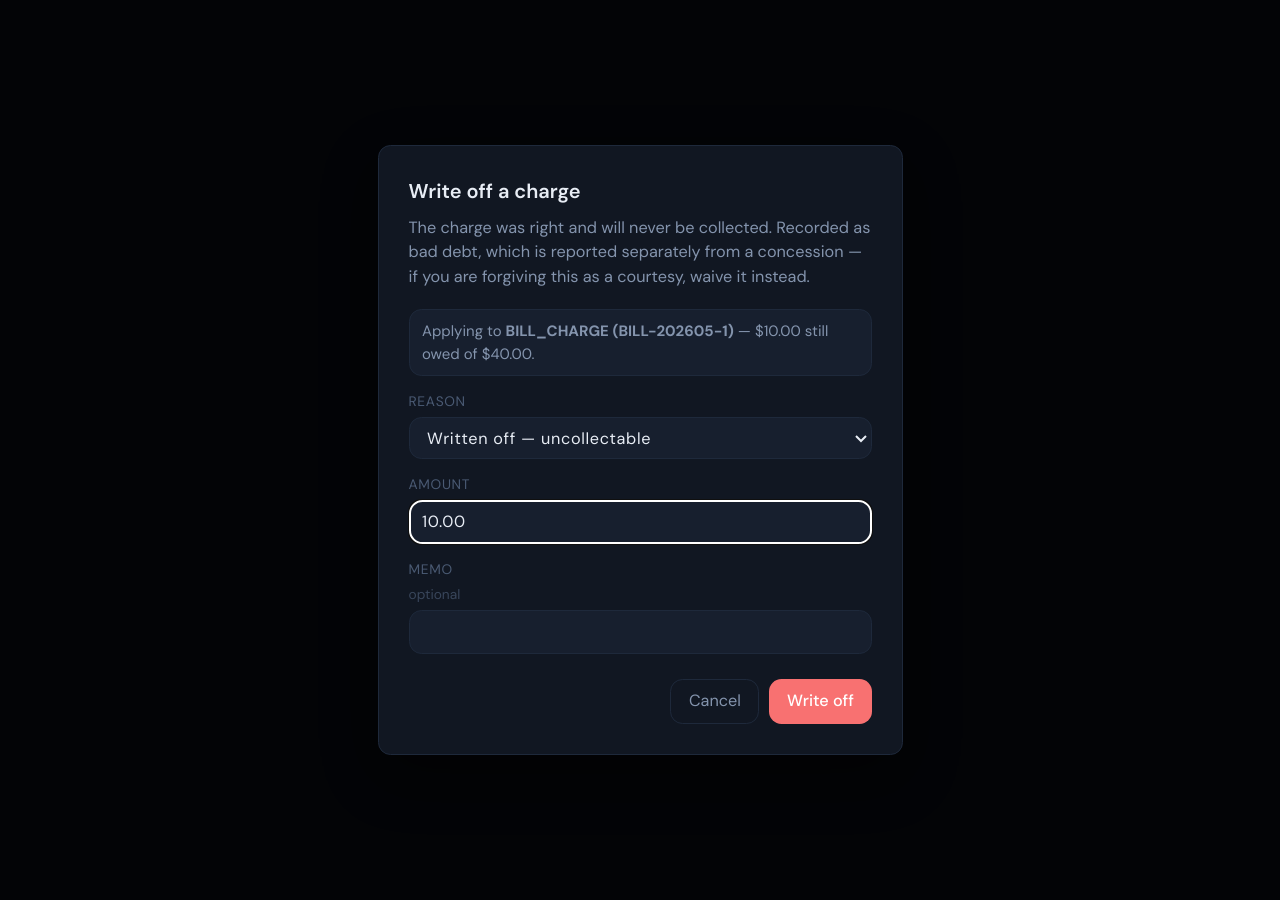
Test: AdjustDialog behaviour › keeps the dialog open and shows why when the API refuses
Expected: the dropdown is shown, x1=408 y1=417 x2=872 y2=459
Click the button "Write off".
click(820, 701)  # box x1=769 y1=679 x2=872 y2=724
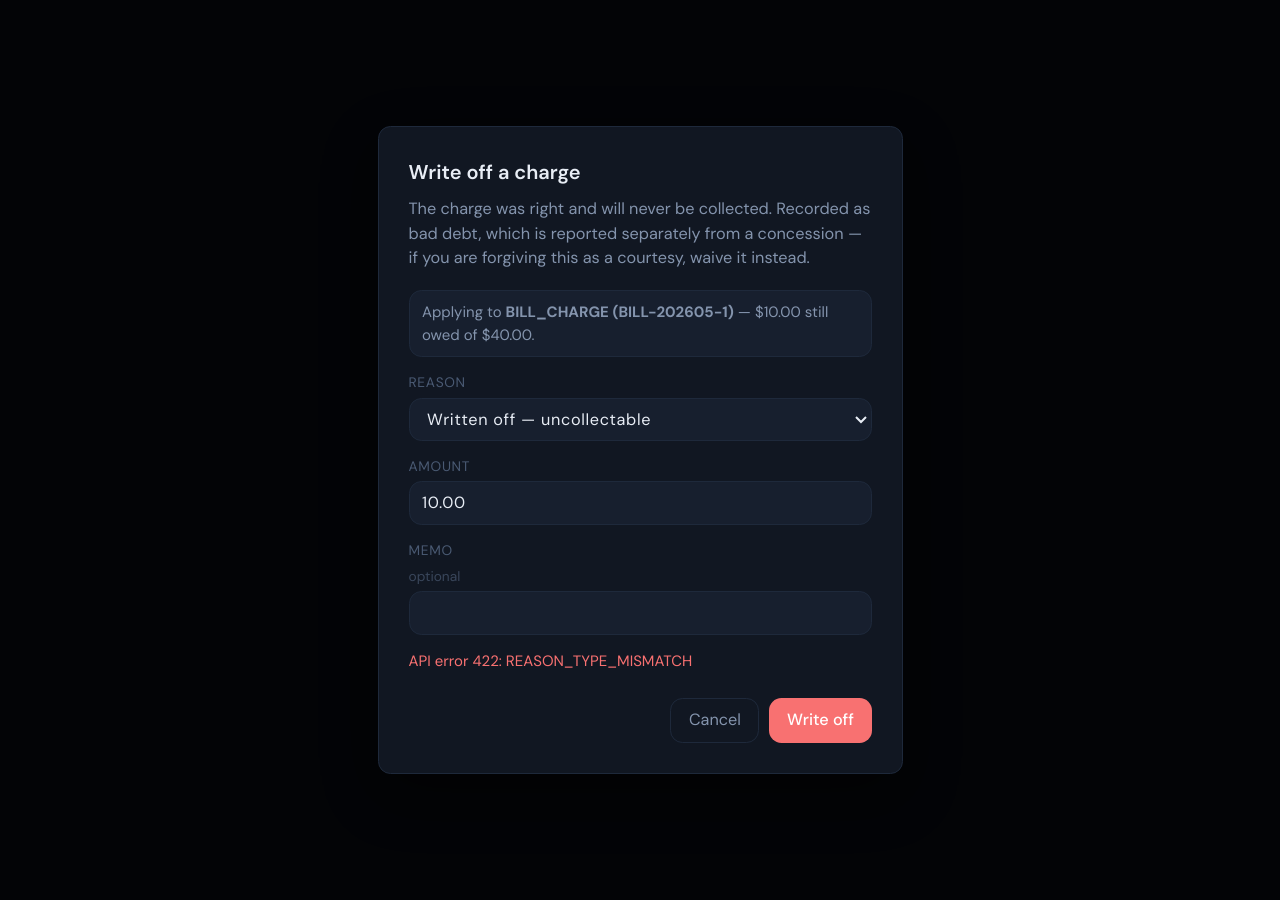
Expected: the button "Write off" is shown, x1=769 y1=698 x2=872 y2=743
Expected: the text "API error 422: REASON_TYPE_MISMATCH" is shown, x1=408 y1=651 x2=692 y2=671
